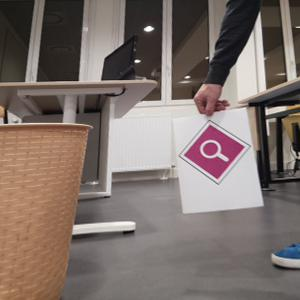search: (179, 119, 250, 183)
